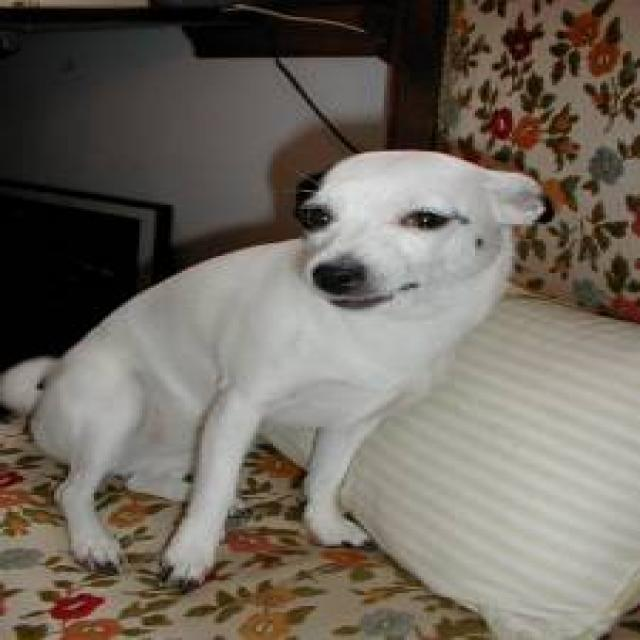dog-chihuahua: (3, 145, 549, 597)
